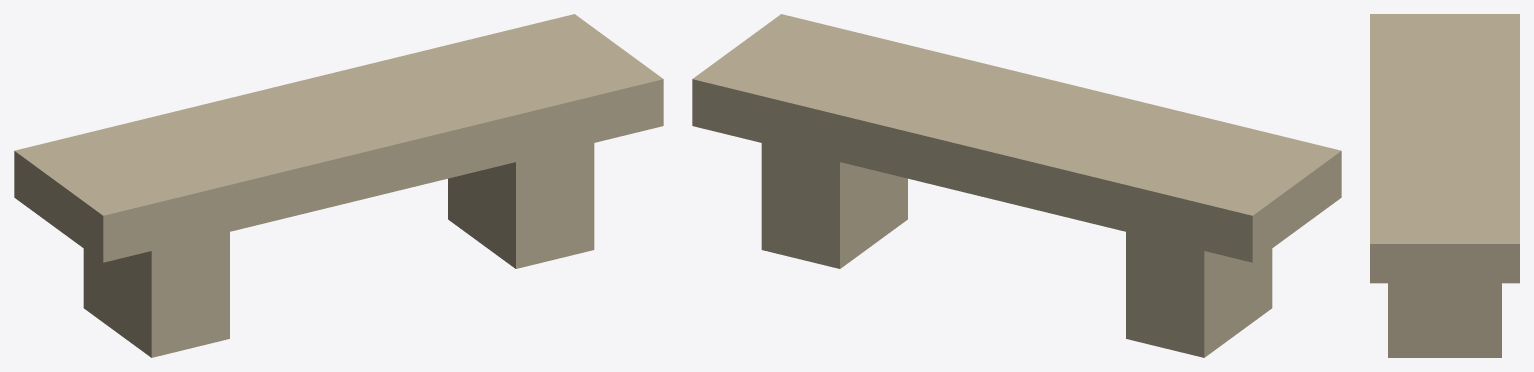
The model's file is bench.glb.
3 views of the same model, side by side, from view 1: azimuth 30°, elevation 25°; view 2: azimuth 150°, elevation 25°; view 3: azimuth 270°, elevation 25° (orthographic). The views are drawn at different scales.
Parts seen in each view (by area): view 1: Stone bench; view 2: Stone bench; view 3: Stone bench.
Part boxes in pixels (left/top/right/bottom): Stone bench: left=14, top=14, right=663, bottom=357; Stone bench: left=692, top=14, right=1341, bottom=357; Stone bench: left=1370, top=14, right=1519, bottom=357.
Size of the model in its own units: 2 by 0.56 by 0.55.
